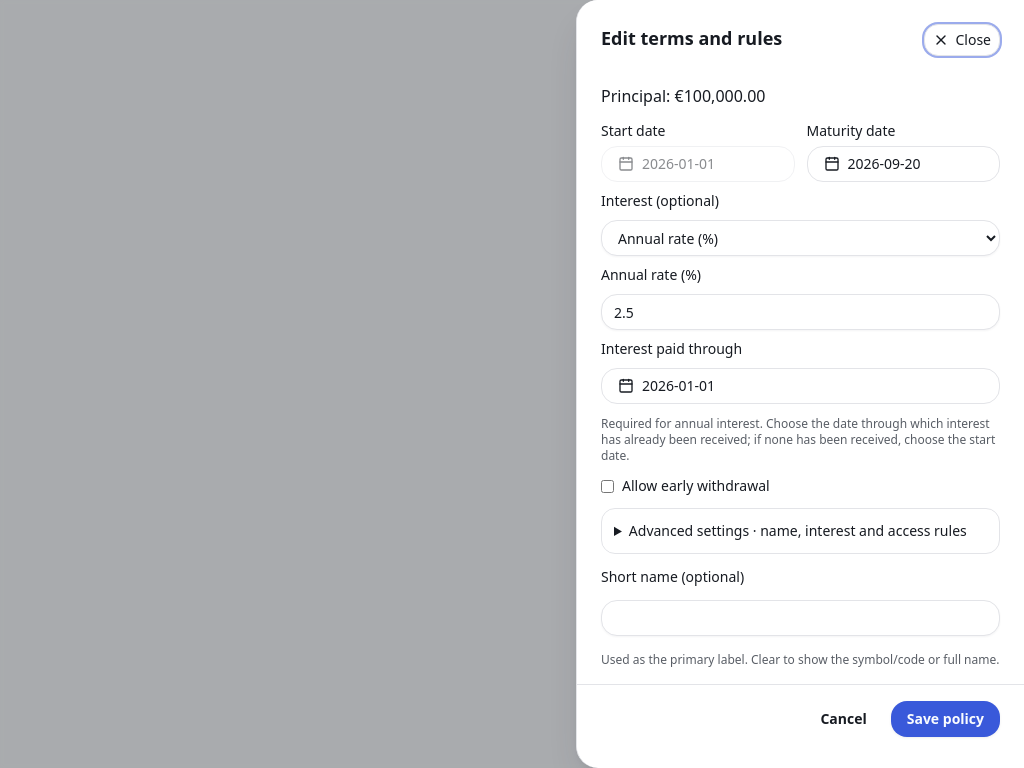
product P1 regression flows › keeps the edit form and shows failure when an update is rejected
This screenshot has width=1024, height=768.
Click the button "Save policy".
click(945, 719)  # box x1=891 y1=701 x2=1000 y2=737
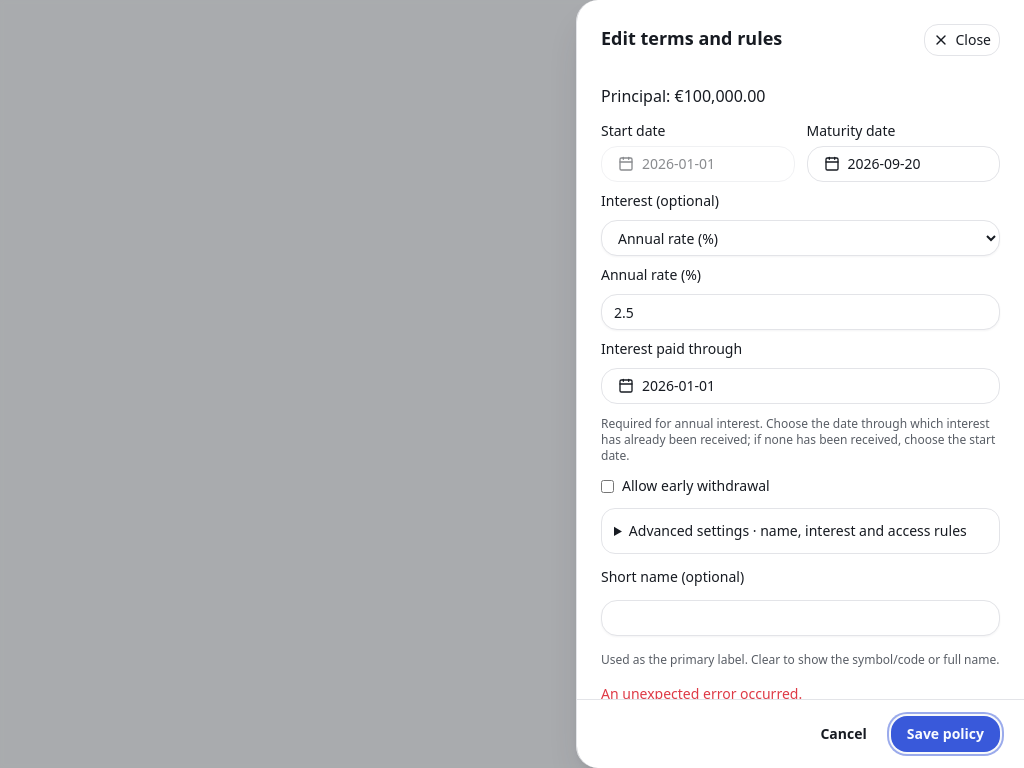
Result: the message reads "An unexpected error occurred." at x1=601 y1=684 x2=802 y2=703
